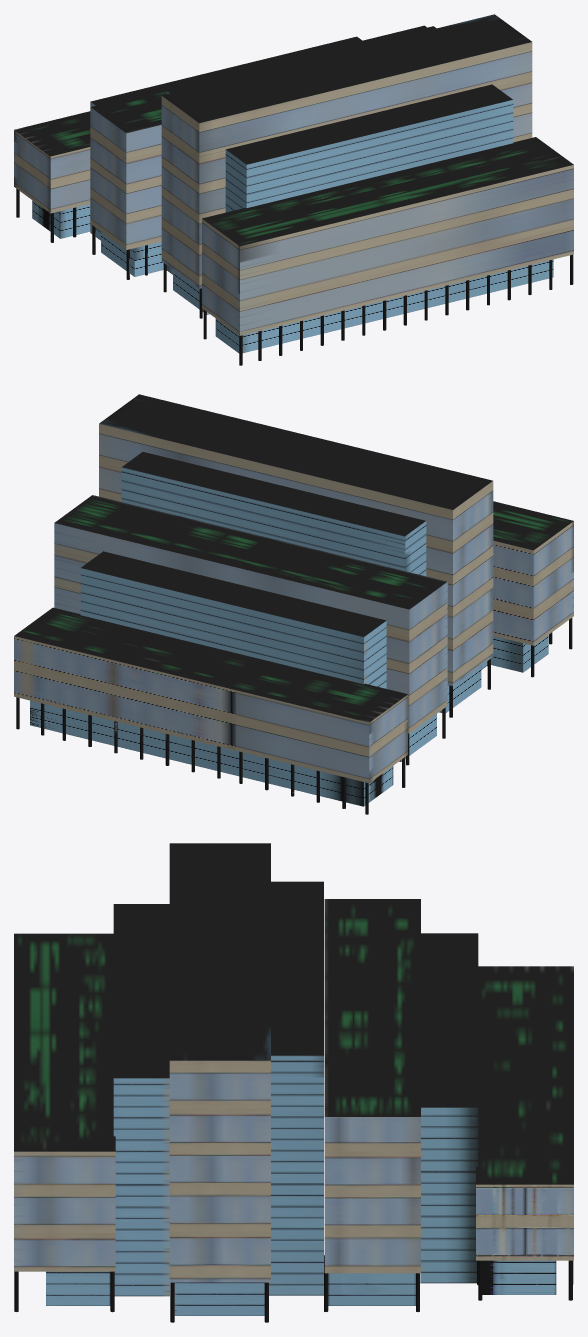
Rendered from Bishop's Square (Marked).glb.
3 renders of one model, top to bottom at view 1: azimuth 30°, elevation 25°; view 2: azimuth 150°, elevation 25°; view 3: azimuth 270°, elevation 25°, orthographic. The views are drawn at different scales.
Parts seen in each view (by area): view 1: Blocks, Block 3 Run.046, Block 3 Run.045, Block 3 Run.047, Block 5 Run.045, Block 5 Run.041, Block 5 Run.043, Block 5 Run.040, Block 5 Run.042, Block 5 Run.044, Block 5 Run.039, Block 5 Run.046 (+79 smaller); view 2: Blocks, Block 5 Run.038, Block 5 Run.040, Block 5 Run.044, Block 5 Run.039, Block 5 Run.041, Block 5 Run.042, Block 5 Run.043, Block 3 Run.038, Block 3 Run.037, Block 3 Run.007, Block 3 Run.008 (+61 smaller); view 3: Blocks, Block 4 Run.002, Block 4 Run.003, Block 6 Run.031, Block 6 Run.032, Block 6 Run.030, Block 5 Run.001, Block 5 Run.002, Block 5 Run.004, Block 5 Run.003, Block 4 Run.001, Block 5 Run.005 (+22 smaller).
Part boxes in pixels (left/top/right/bottom): Blocks: left=14, top=14, right=573, bottom=365; Block 3 Run.046: left=137, top=128, right=147, bottom=247; Block 3 Run.045: left=126, top=131, right=136, bottom=249; Block 3 Run.047: left=147, top=126, right=157, bottom=244; Block 5 Run.045: left=199, top=121, right=209, bottom=288; Block 5 Run.041: left=174, top=105, right=180, bottom=274; Block 5 Run.043: left=186, top=114, right=192, bottom=283; Block 5 Run.040: left=168, top=100, right=174, bottom=269; Block 5 Run.042: left=180, top=109, right=186, bottom=279; Block 5 Run.044: left=193, top=119, right=199, bottom=288; Block 5 Run.039: left=161, top=96, right=167, bottom=265; Block 5 Run.046: left=209, top=118, right=220, bottom=216; Blocks: left=14, top=394, right=573, bottom=814; Block 5 Run.038: left=442, top=507, right=452, bottom=685; Block 5 Run.040: left=459, top=501, right=466, bottom=680; Block 5 Run.044: left=486, top=481, right=493, bottom=661; Block 5 Run.039: left=453, top=505, right=459, bottom=685; Block 5 Run.041: left=466, top=496, right=472, bottom=676; Block 5 Run.042: left=473, top=490, right=479, bottom=671; Block 5 Run.043: left=480, top=486, right=486, bottom=666; Block 3 Run.038: left=398, top=607, right=409, bottom=733; Block 3 Run.037: left=387, top=604, right=398, bottom=691; Block 3 Run.007: left=54, top=523, right=65, bottom=610; Block 3 Run.008: left=65, top=526, right=76, bottom=612; Blocks: left=14, top=843, right=573, bottom=1322; Block 4 Run.002: left=286, top=1055, right=305, bottom=1295; Block 4 Run.003: left=305, top=1055, right=323, bottom=1295; Block 6 Run.031: left=132, top=1078, right=150, bottom=1296; Block 6 Run.032: left=151, top=1078, right=169, bottom=1296; Block 6 Run.030: left=113, top=1078, right=132, bottom=1296; Block 5 Run.001: left=169, top=1060, right=186, bottom=1282; Block 5 Run.002: left=186, top=1060, right=203, bottom=1282; Block 5 Run.004: left=220, top=1060, right=237, bottom=1282; Block 5 Run.003: left=203, top=1060, right=220, bottom=1282; Block 4 Run.001: left=269, top=1055, right=286, bottom=1295; Block 5 Run.005: left=237, top=1060, right=253, bottom=1282.
Bounding box in the file's own units: 106 × 54.1 × 105.
Materials: 318 (318 with a texture image).
